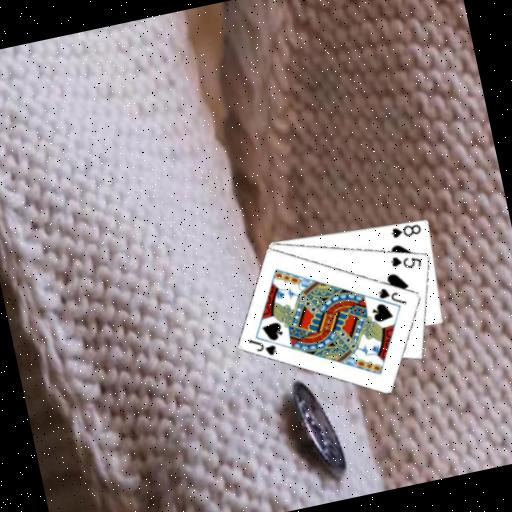5S: (386, 247, 424, 273)
8S: (387, 219, 423, 241)
JS: (373, 280, 408, 311), (245, 331, 280, 362)
